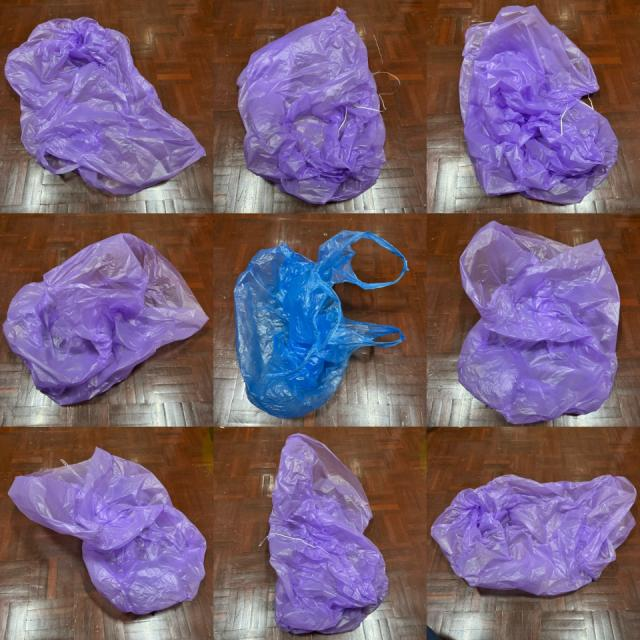Single-layer Plastic: (5, 18, 205, 194), (4, 234, 209, 405), (458, 221, 620, 424), (234, 232, 409, 418), (9, 448, 206, 613), (460, 6, 619, 204), (238, 8, 385, 204), (431, 475, 636, 595), (268, 434, 389, 634)
